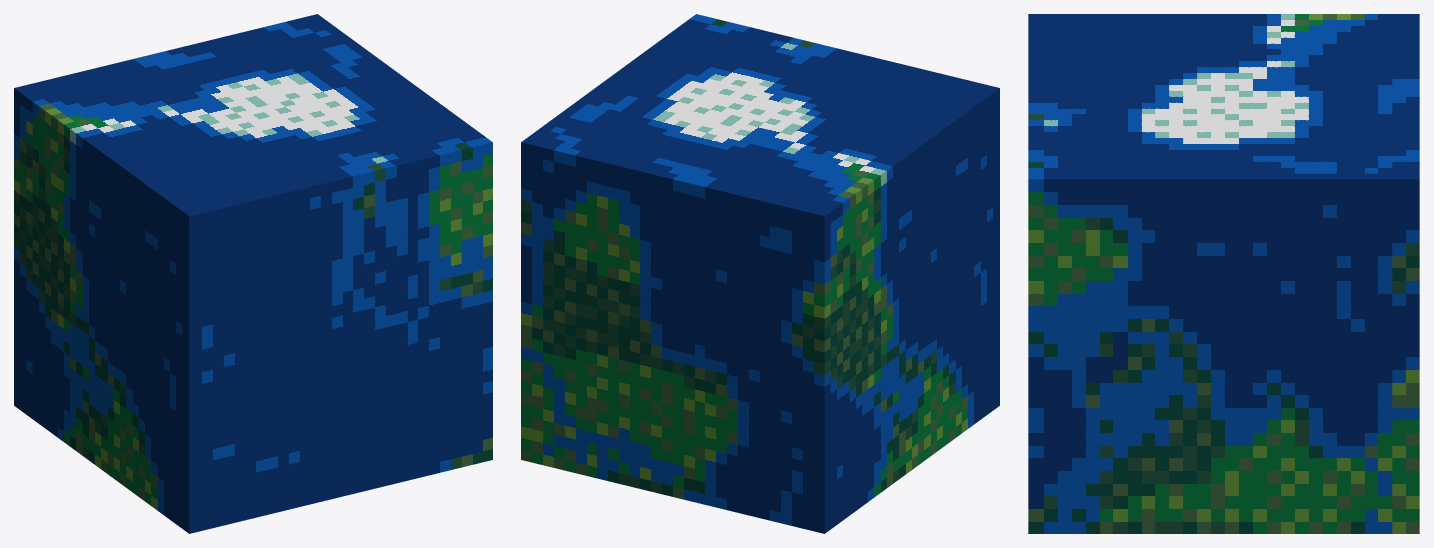
Rendered from earth.glb.
3 views of the same model, side by side, from view 1: azimuth 30°, elevation 25°; view 2: azimuth 150°, elevation 25°; view 3: azimuth 270°, elevation 25° (orthographic). The views are drawn at different scales.
Parts seen in each view (by area): view 1: Cube; view 2: Cube; view 3: Cube.
Boxes of the visible parts, <box> form: Cube: <box>14,14,492,533</box>; Cube: <box>521,14,999,533</box>; Cube: <box>1028,14,1419,533</box>.
Bounding box in the file's own units: 2 × 2 × 2.
Materials: 1 (1 with a texture image).
